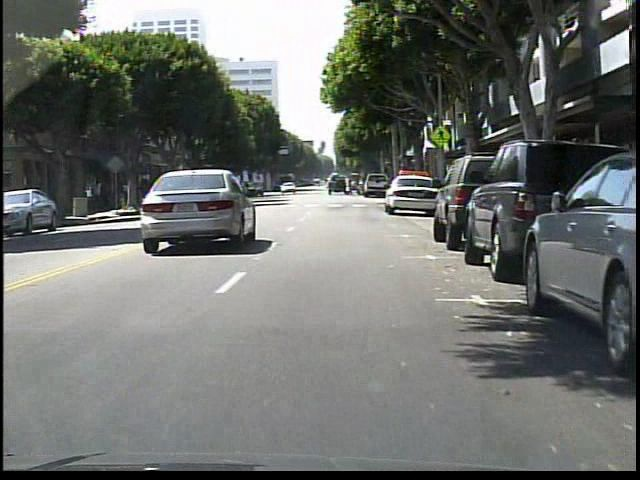person: (93, 177, 105, 213), (123, 182, 131, 208), (348, 175, 349, 196)
